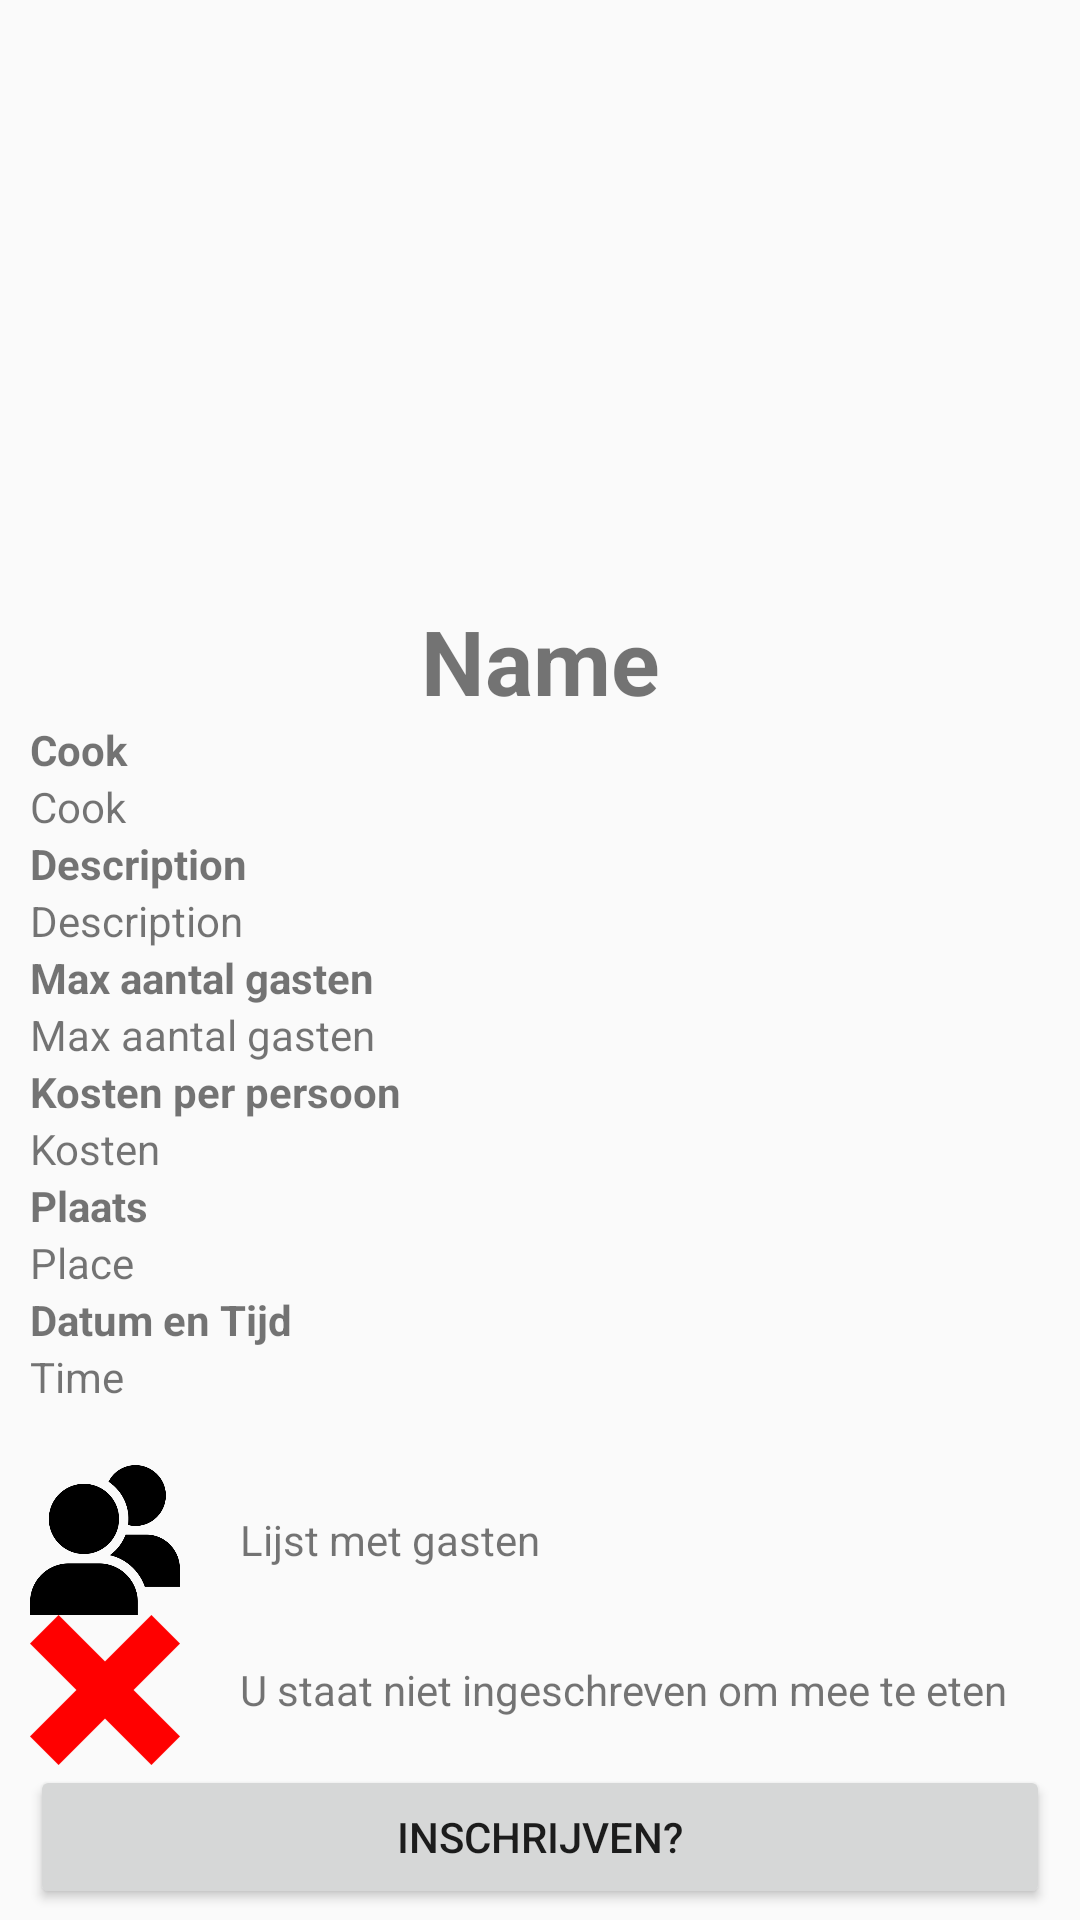

Icons on this 1080px x 1920px Android screen, each with the point to tap as (x=x, y=y):
eaters: (x=114, y=1526)
rood kruisje: (x=105, y=1690)
